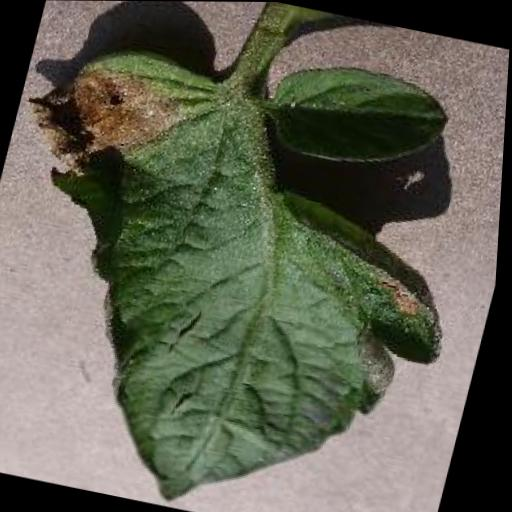Healthy: (259, 50, 456, 185)
Late Blight: (0, 32, 505, 512)
